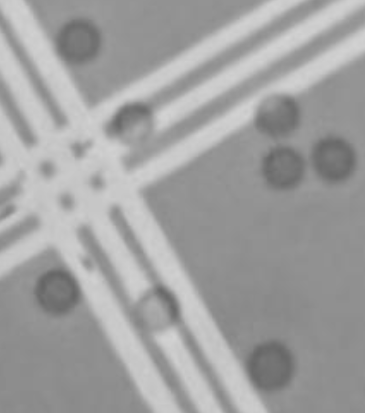cell: (248, 84, 307, 146), (125, 280, 183, 340), (29, 263, 85, 320), (106, 93, 160, 150), (51, 11, 104, 67), (242, 337, 295, 391), (256, 140, 309, 194), (307, 130, 359, 185)
